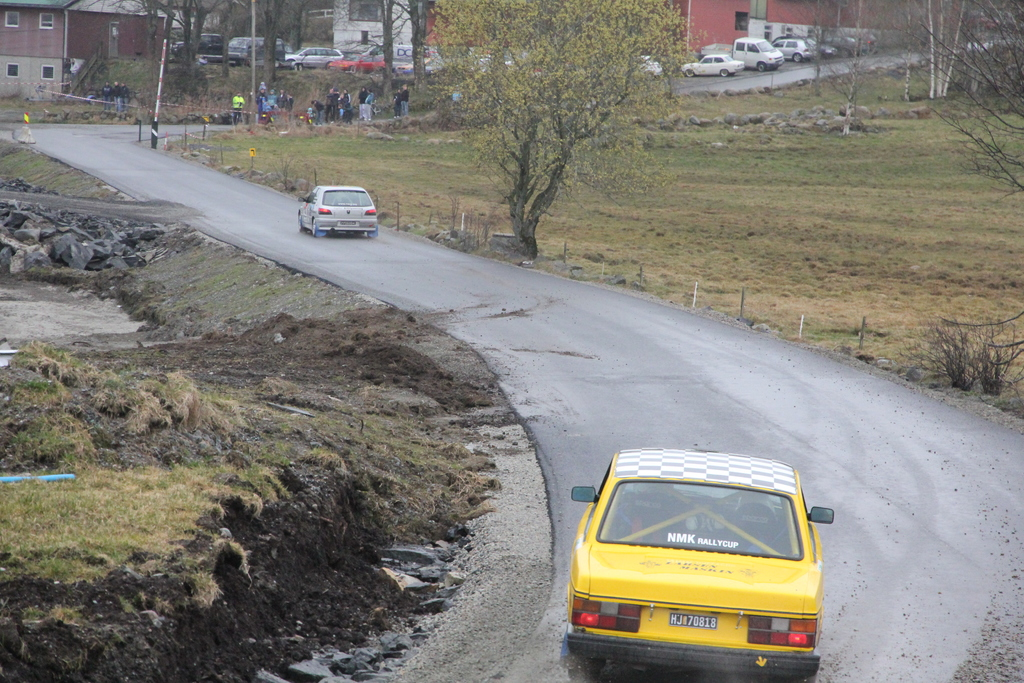Car: (557, 445, 835, 682), (174, 30, 446, 75), (293, 183, 381, 235), (682, 54, 741, 76), (796, 36, 842, 62), (771, 37, 813, 59), (633, 55, 661, 78)
